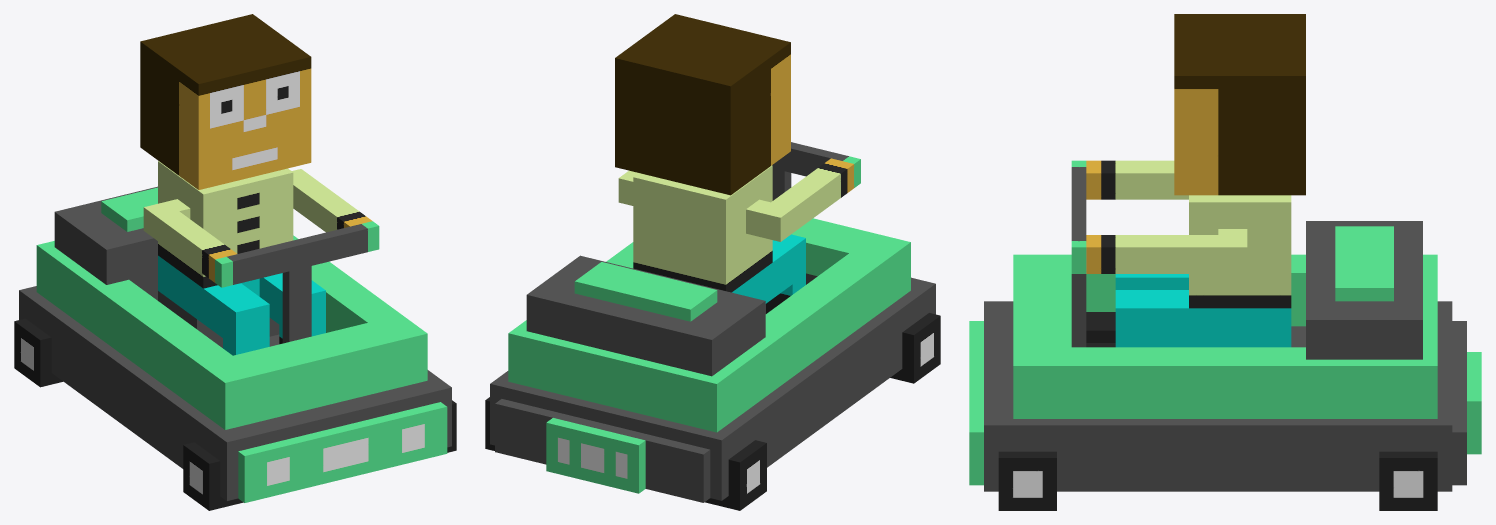
Rendered from Character_2.fbx.
The picture shows the model from 3 angles, left to right: view 1: azimuth 30°, elevation 25°; view 2: azimuth 150°, elevation 25°; view 3: azimuth 270°, elevation 25°; orthographic projection. The views are drawn at different scales.
Visible parts, largest first — view 1: Character_2; view 2: Character_2; view 3: Character_2.
Boxes of the visible parts, left/top/right/bottom form: Character_2: left=14, top=14, right=456, bottom=510; Character_2: left=485, top=14, right=940, bottom=510; Character_2: left=969, top=14, right=1481, bottom=510.
Size of the model in its own units: 22 by 30 by 35.
1 material, 1 textured.
